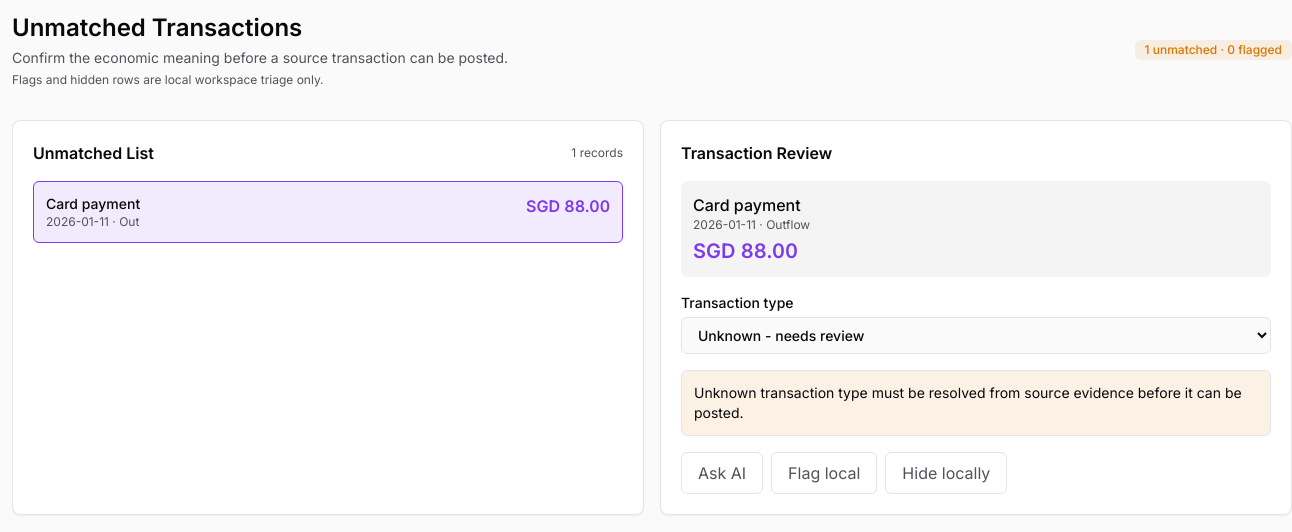
Test case: UnmatchedBoard › keeps review available when local flag storage is malformed or unavailable
Click the button "Flag local": (824, 473) [771,452,877,494]
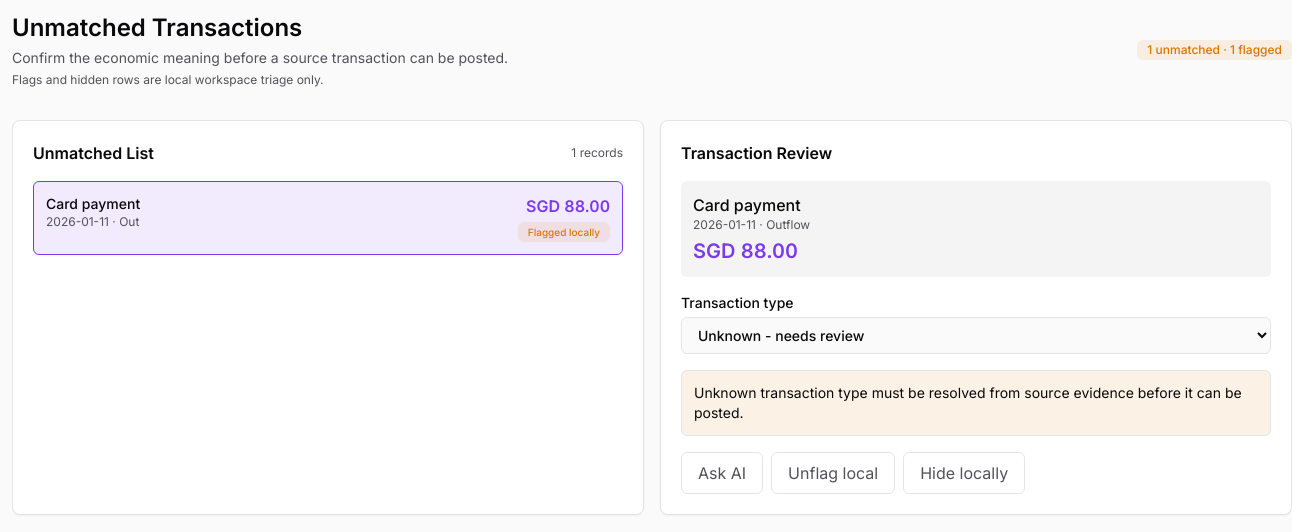
expect the button "Unflag local" is shown: met, box [771,452,895,494]
